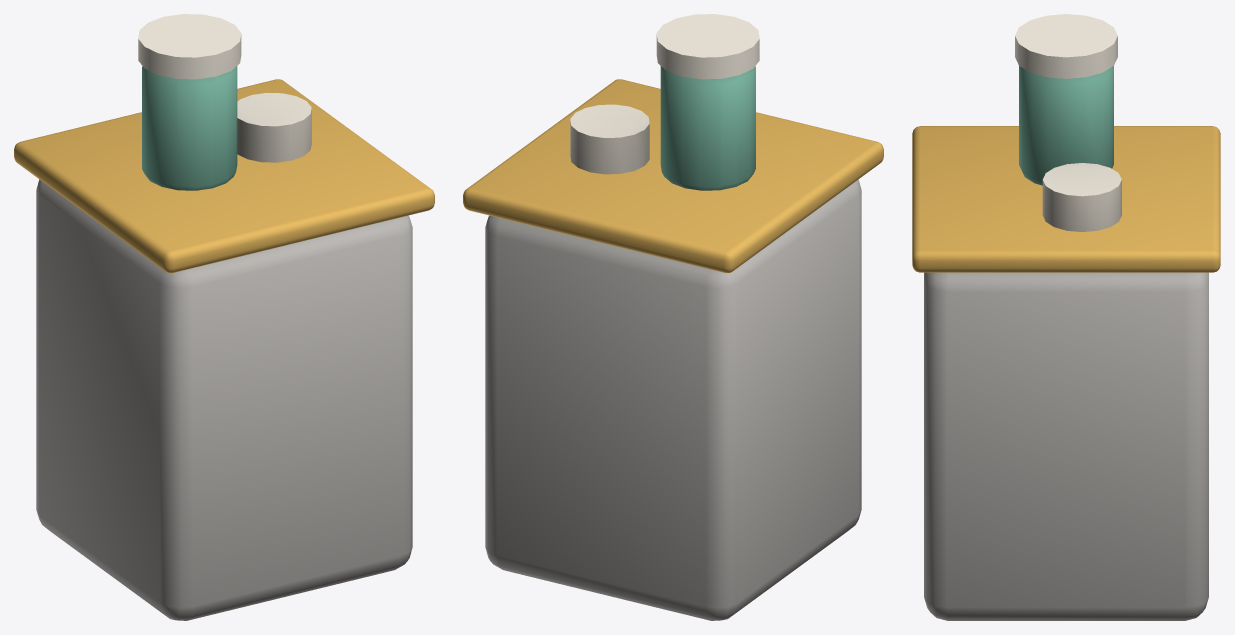
File: gift-priya.glb
3 views of the same model, side by side, from view 1: azimuth 30°, elevation 25°; view 2: azimuth 150°, elevation 25°; view 3: azimuth 270°, elevation 25° (orthographic).
Visible parts, largest first — view 1: gift-priya; view 2: gift-priya; view 3: gift-priya.
Boxes of the visible parts, x1,y1,x2,y2 form: gift-priya: (14, 14, 434, 620); gift-priya: (463, 14, 883, 620); gift-priya: (912, 14, 1220, 620).
Size of the model in its own units: 0.39 by 0.72 by 0.39.
